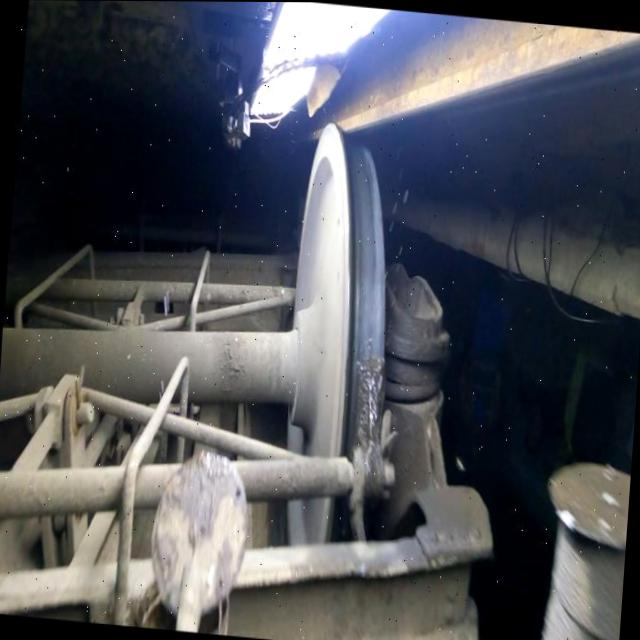Cracks-Scratches: (342, 264, 349, 374)
Wheel: (288, 122, 383, 454)
